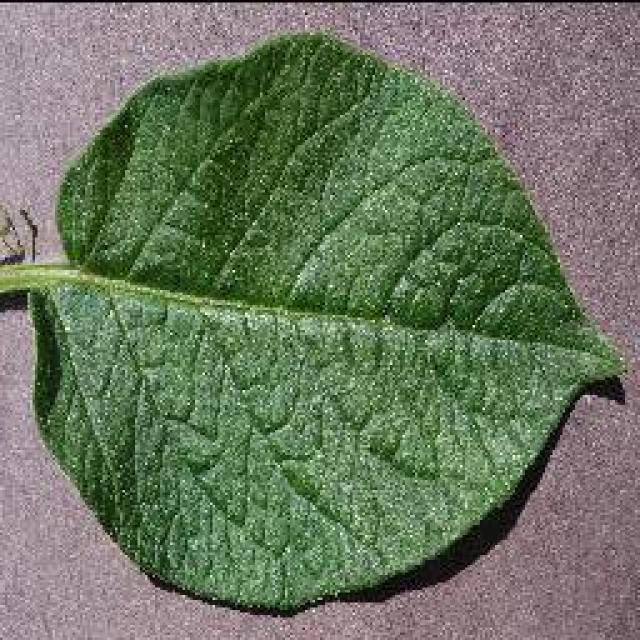Potato___healthy: (0, 22, 629, 621)
